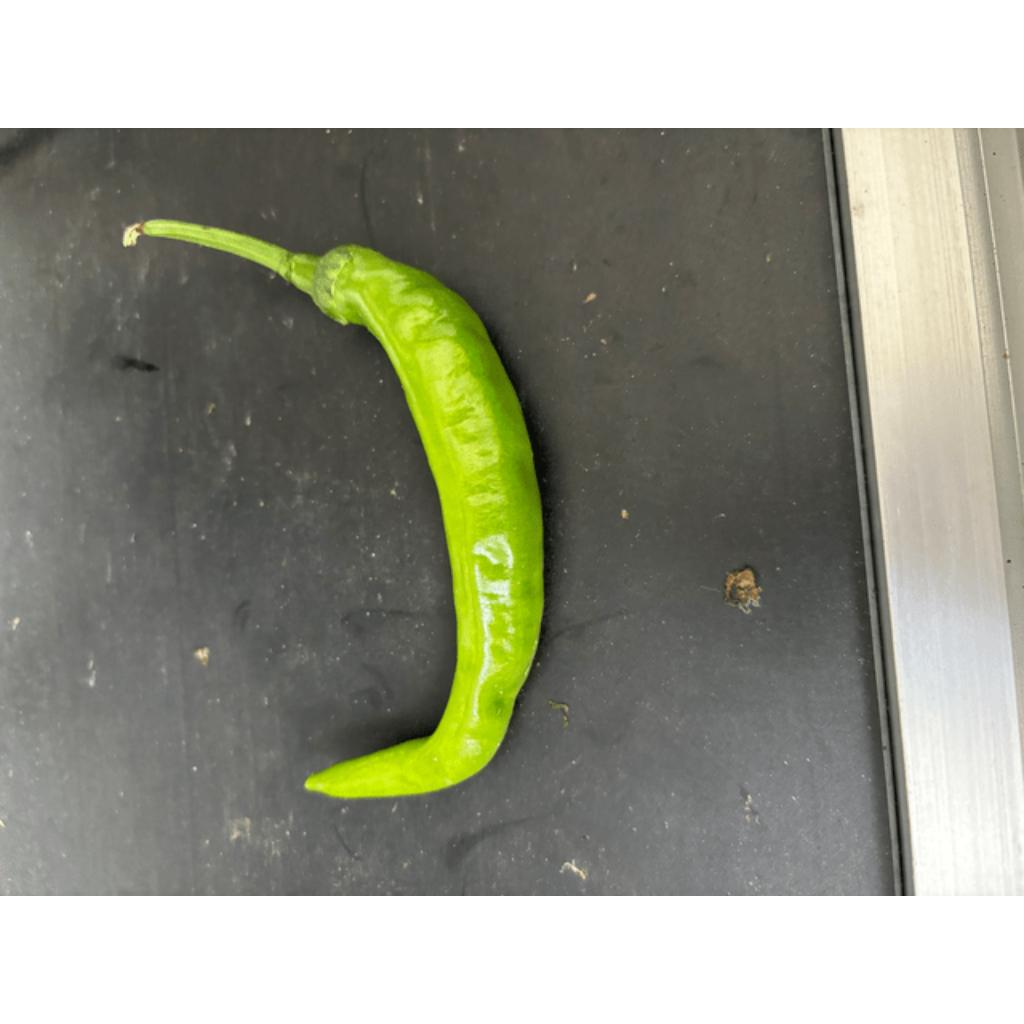chili: (303, 244, 548, 800)
